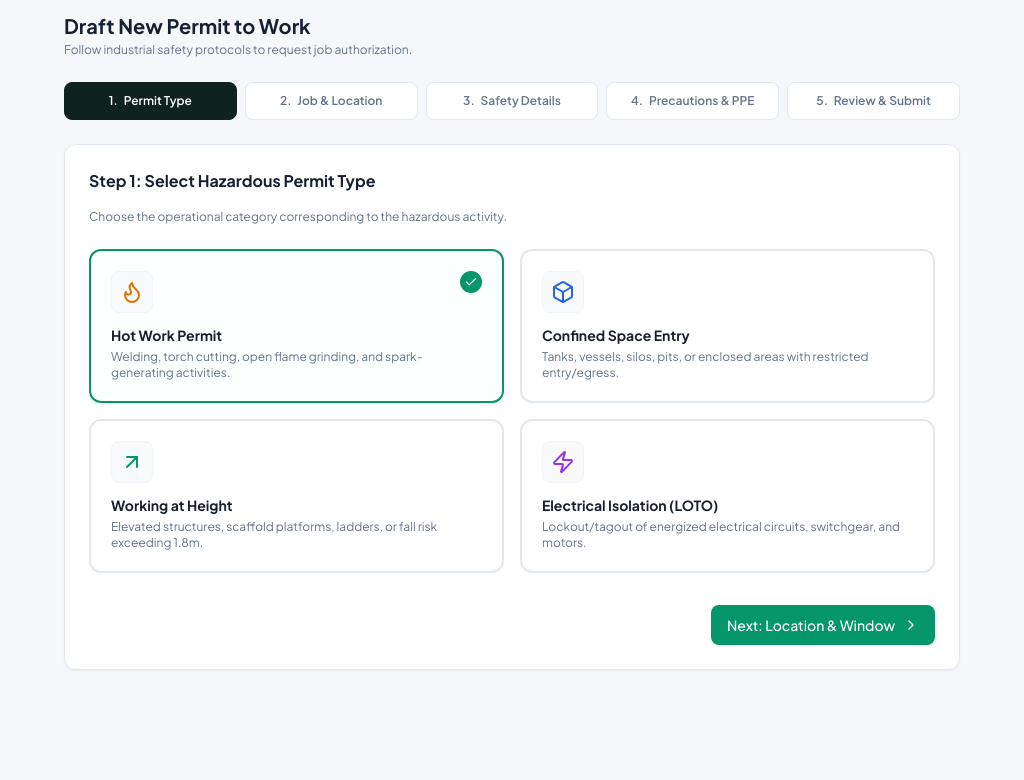
Test: CreatePermitPage Equipment Cascade Component Tests (Bug 2) › Plant -> Area -> Equipment cascade loads and resets selections on change
The image size is (1024, 780).
Later steps or results of the test are not shown.
# Advance to Step 2 (Job & Location)
Click the button "Next: Location & Window" at (823, 625), box [711, 605, 935, 645]
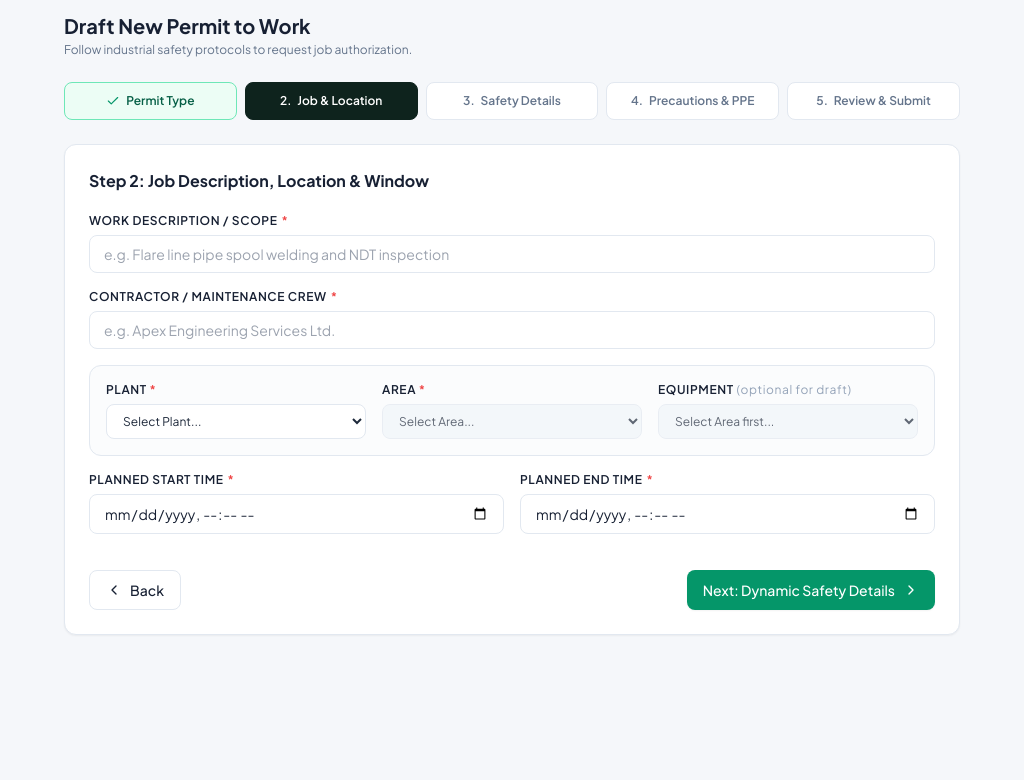
Result: the dropdown labelled "Plant *" shows "Select Plant..."
Result: the dropdown labelled "Area *" is disabled at [382, 404, 642, 439]
Result: the dropdown labelled "Equipment (optional for draft)" is disabled at [658, 404, 918, 439]
Select "Refinery Alpha (REF-A)" in the dropdown labelled "Plant *" at (236, 422), box [106, 404, 366, 439]
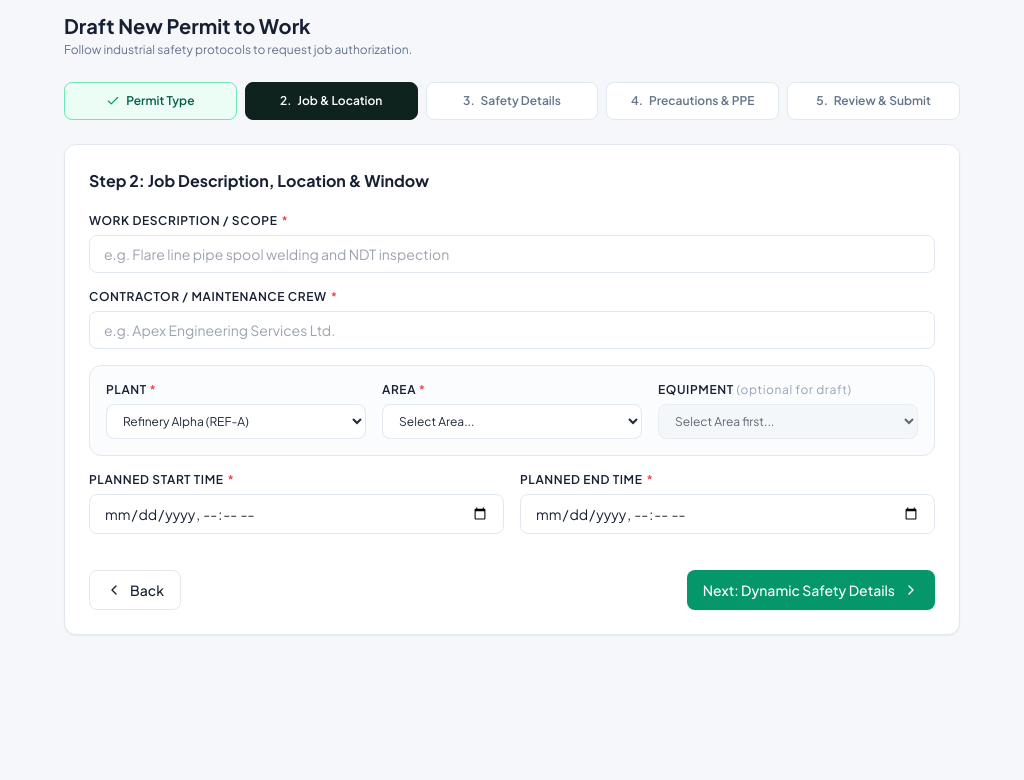
Result: the dropdown labelled "Area *" is enabled
Select "Boiler House (BH)" in the dropdown labelled "Area *" at (512, 422), box [382, 404, 642, 439]
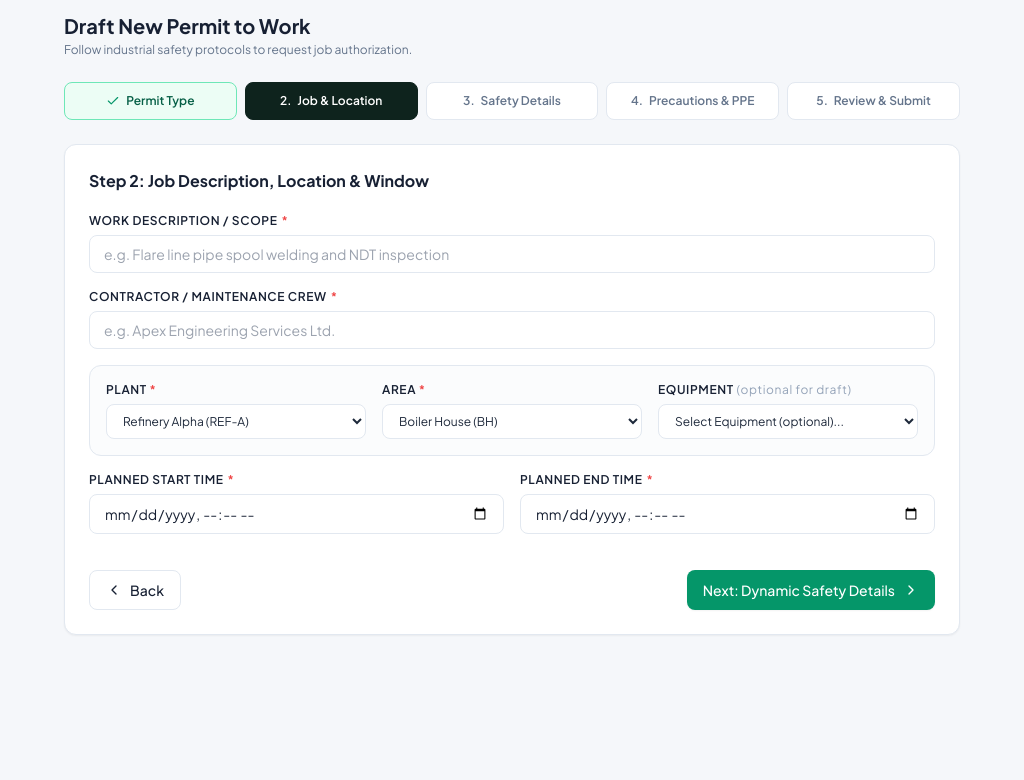
Result: the dropdown labelled "Equipment (optional for draft)" is enabled at [658, 404, 918, 439]
